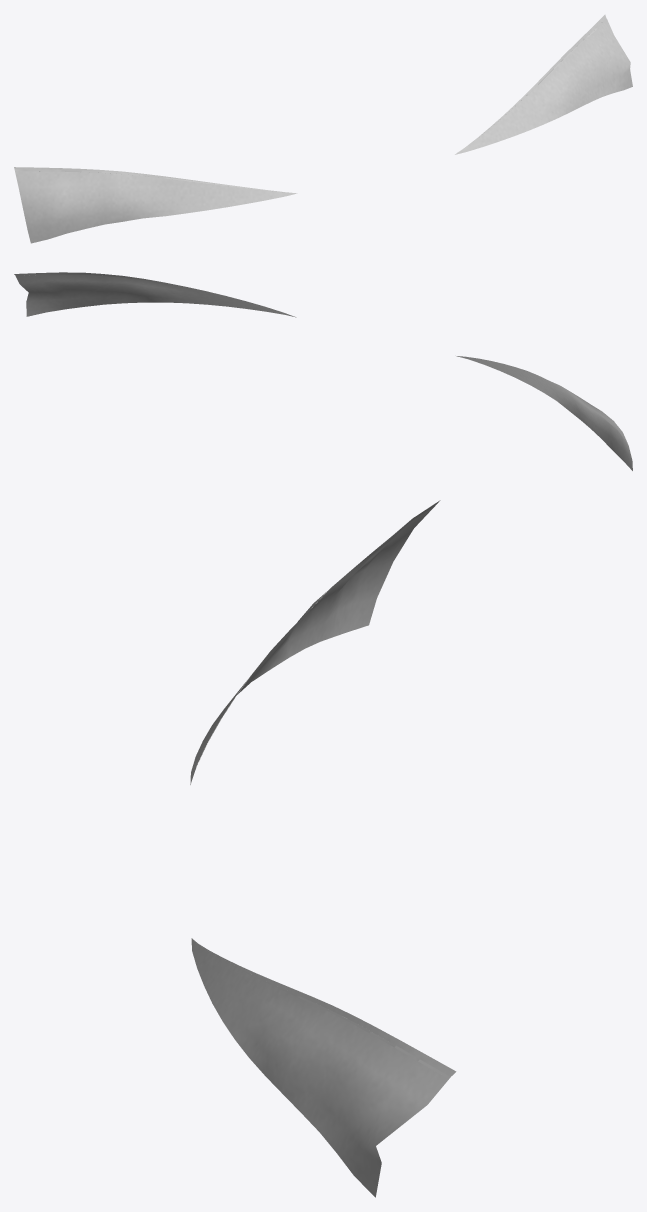
File: COP_Bust_V2.glb
3 renders of one model, top to bottom at view 1: azimuth 30°, elevation 25°; view 2: azimuth 150°, elevation 25°; view 3: azimuth 270°, elevation 25°, orthographic. The views are drawn at different scales.
Visible parts, largest first — view 1: COP_Bust_V21, Rope1; view 2: COP_Bust_V21; view 3: COP_Bust_V21.
Part boxes in pixels (left/top/right/bottom): COP_Bust_V21: left=14, top=14, right=632, bottom=243; Rope1: left=14, top=18, right=607, bottom=192; COP_Bust_V21: left=14, top=272, right=632, bottom=470; COP_Bust_V21: left=190, top=500, right=456, bottom=1197.
Size of the model in its own units: 0.6381 by 0.0682 by 0.1214.
Materials: 2 (2 with a texture image).
